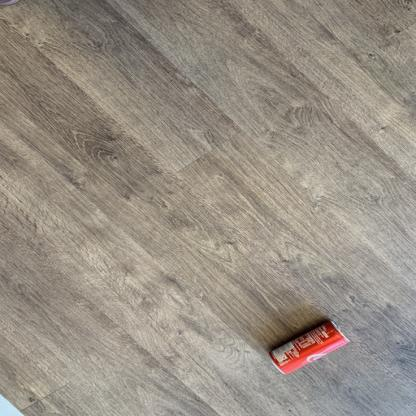trash: (262, 296, 356, 387)
